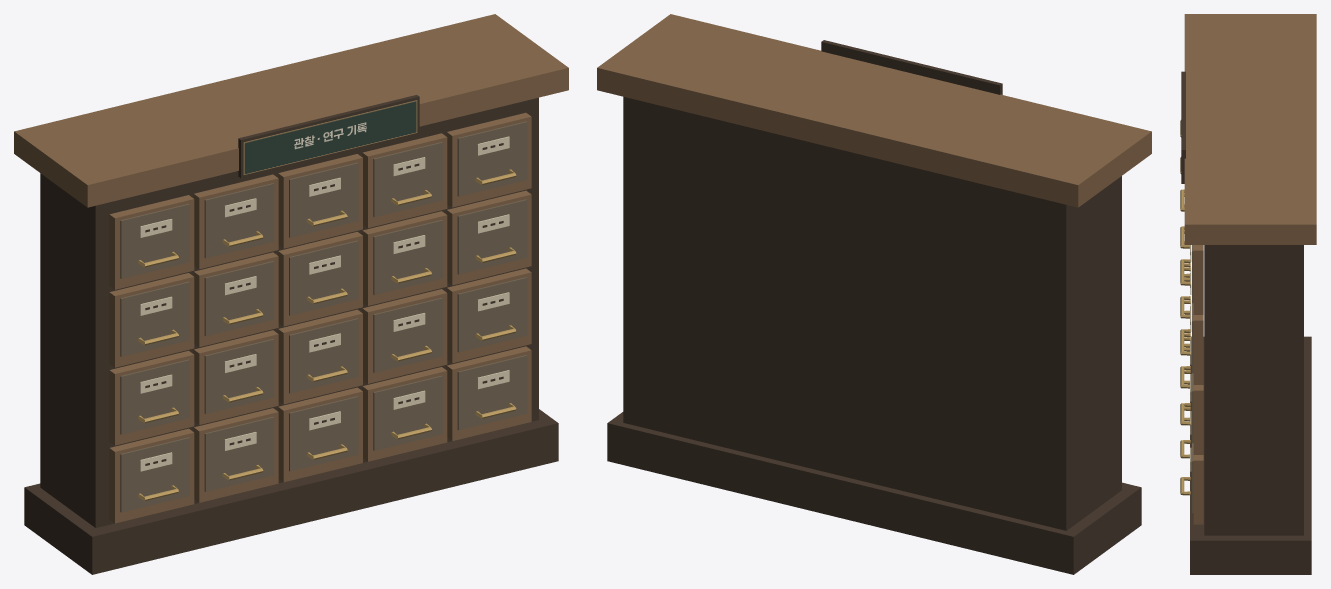
File: 05_Research_Archive_Cabinet.fbx
The picture shows the model from 3 angles, left to right: view 1: azimuth 30°, elevation 25°; view 2: azimuth 150°, elevation 25°; view 3: azimuth 270°, elevation 25°; orthographic projection. The views are drawn at different scales.
Visible parts, largest first — view 1: 05_Research_Archive_Cabinet, 05_Research_Archive_Cabinet__Structure; view 2: 05_Research_Archive_Cabinet__Structure; view 3: 05_Research_Archive_Cabinet__Structure, 05_Research_Archive_Cabinet.
Part boxes in pixels (left/top/right/bottom): 05_Research_Archive_Cabinet: left=109, top=112, right=531, bottom=523; 05_Research_Archive_Cabinet__Structure: left=14, top=14, right=568, bottom=574; 05_Research_Archive_Cabinet__Structure: left=597, top=14, right=1151, bottom=574; 05_Research_Archive_Cabinet__Structure: left=1181, top=14, right=1316, bottom=574; 05_Research_Archive_Cabinet: left=1180, top=120, right=1203, bottom=524.
Bounding box in the file's own units: 291 × 233 × 79.66.
Materials: 2 (2 with a texture image).
